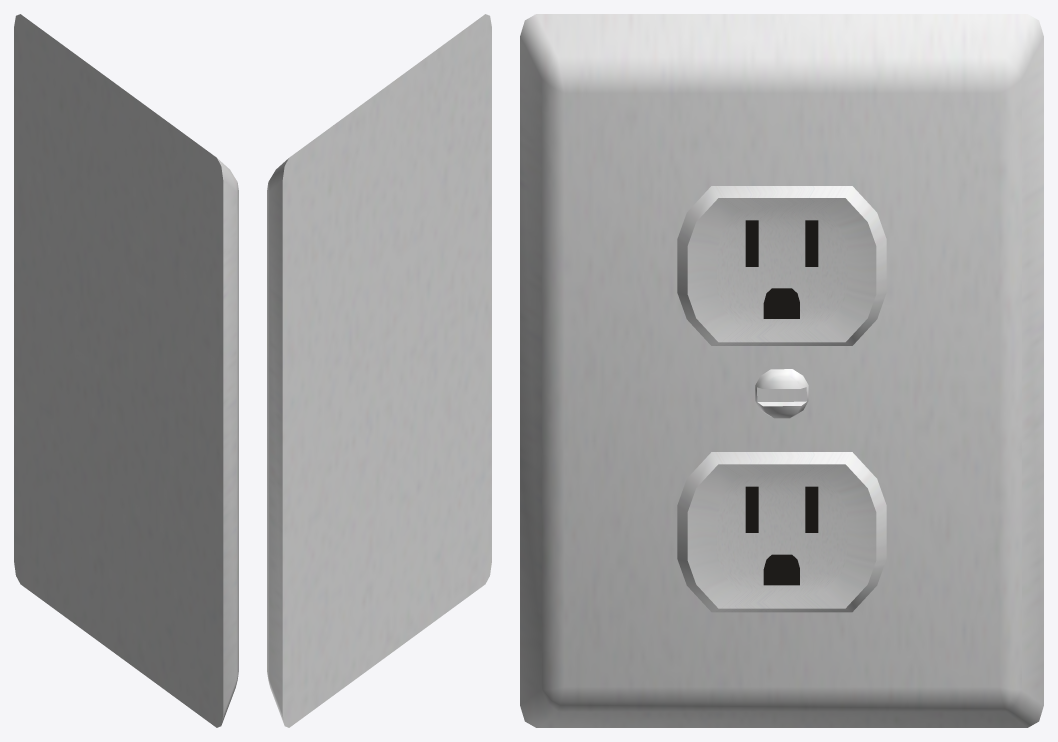
The model's file is Plug White.fbx.
The picture shows the model from 3 angles, left to right: view 1: azimuth 30°, elevation 25°; view 2: azimuth 150°, elevation 25°; view 3: azimuth 270°, elevation 25°; orthographic projection. The views are drawn at different scales.
Visible parts, largest first — view 1: Plug White; view 2: Plug White; view 3: Plug White.
Part boxes in pixels (x1,y1,x2,y2): Plug White: [14, 14, 238, 727]; Plug White: [267, 14, 491, 727]; Plug White: [520, 14, 1043, 727].
Bounding box in the file's own units: 1.13 × 15.93 × 10.59.
